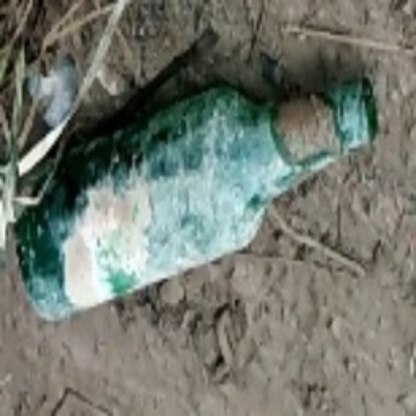bottle: (16, 64, 376, 323)
